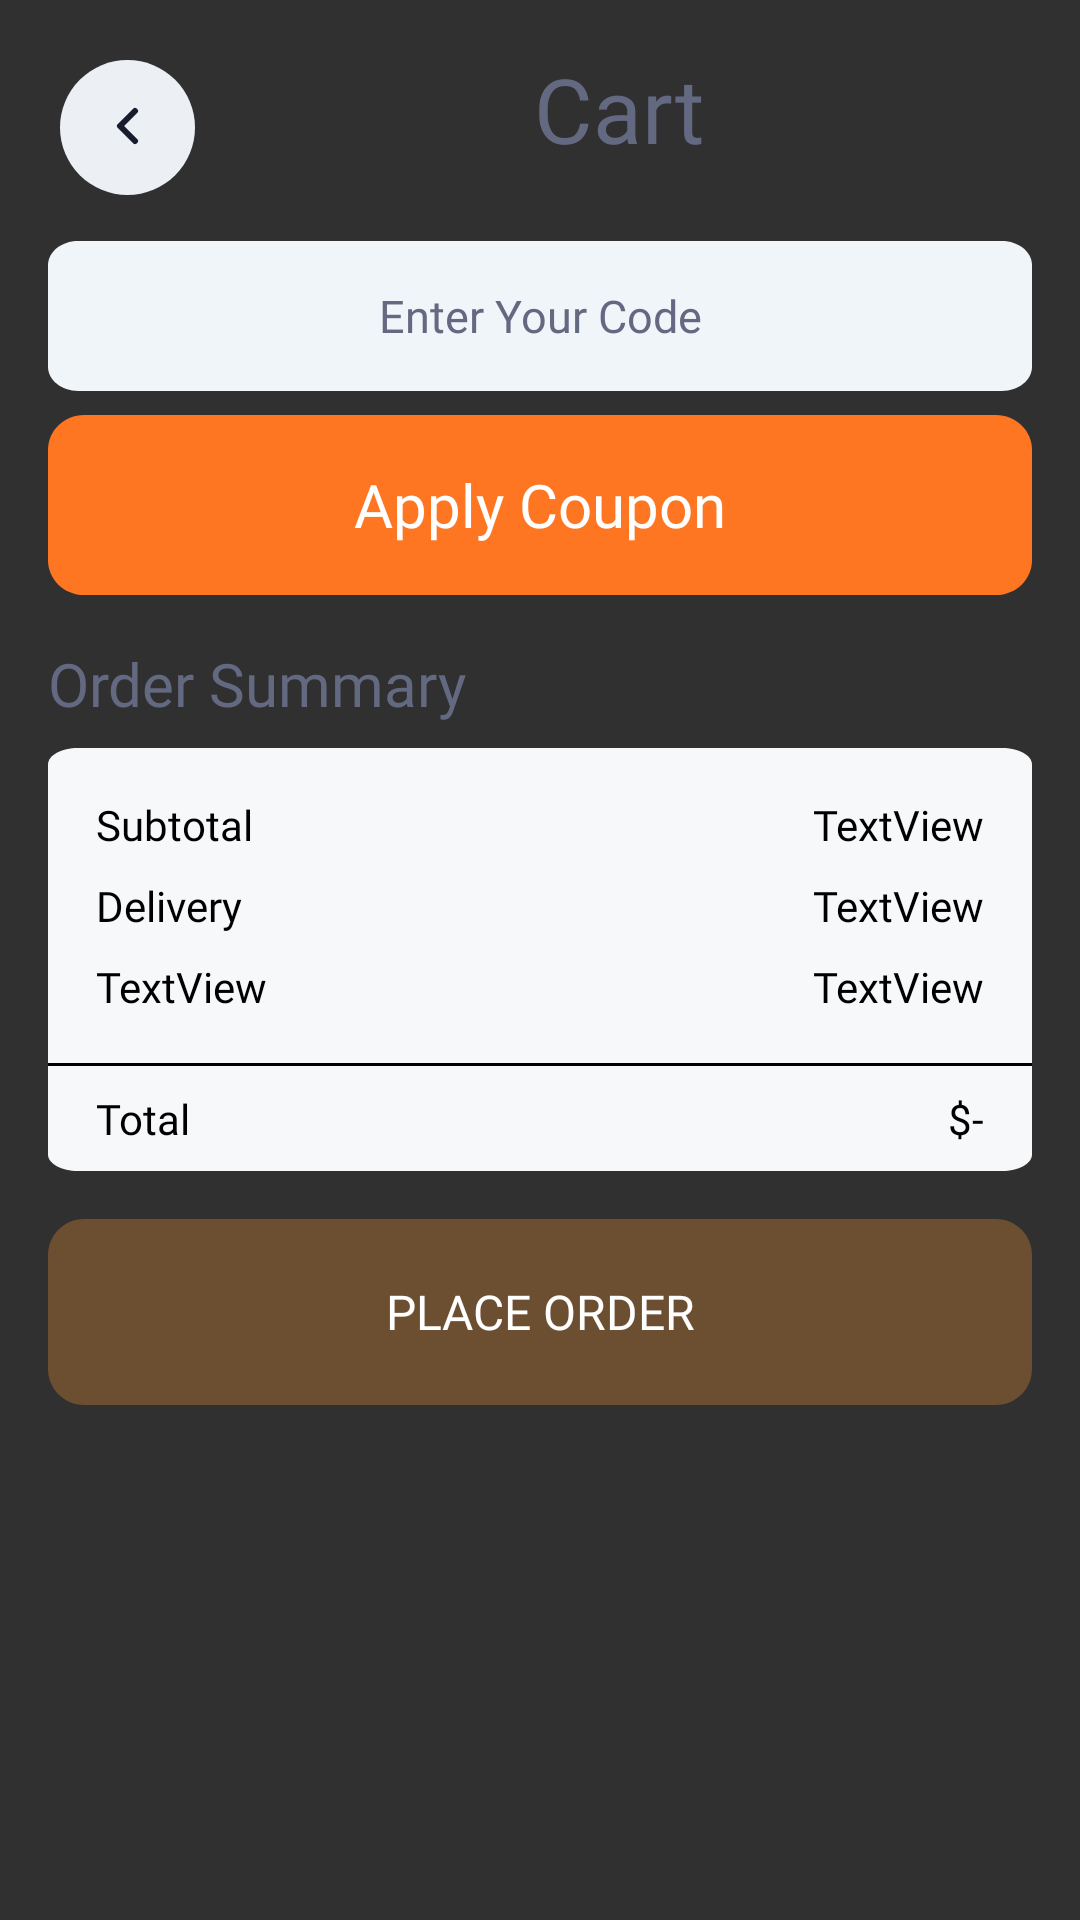

Named icons in this screenshot (1080×1920) and their centers, [x,y]:
previous: [127,127]
